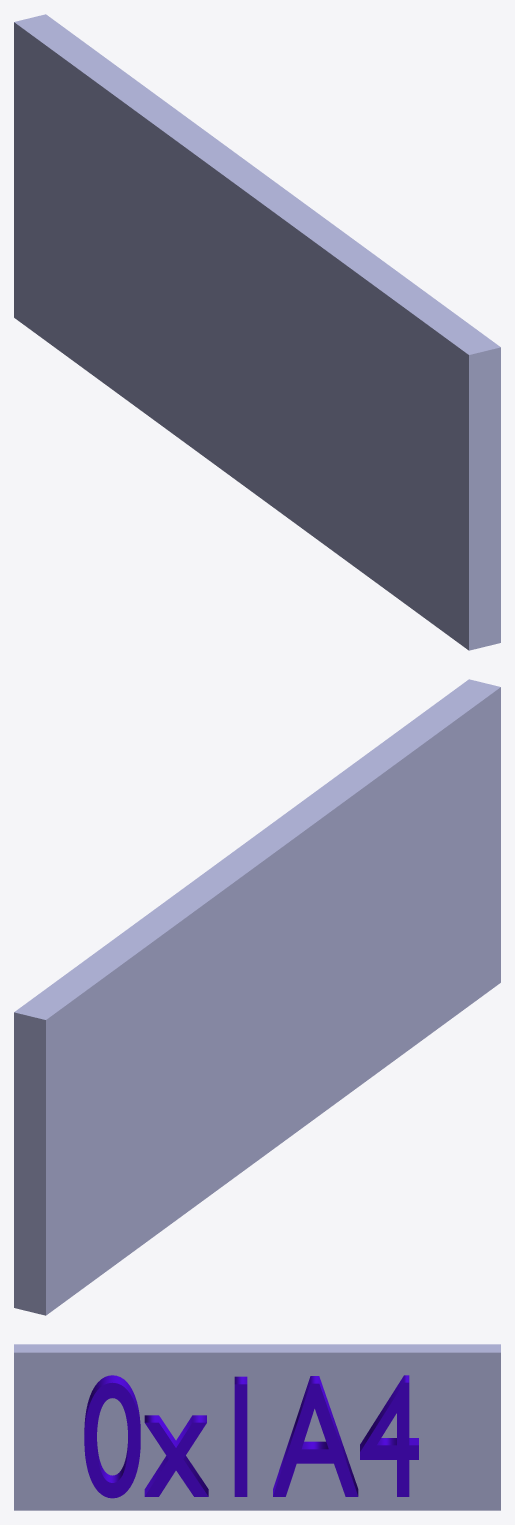
The picture shows the model from 3 angles, top to bottom: view 1: azimuth 30°, elevation 25°; view 2: azimuth 150°, elevation 25°; view 3: azimuth 270°, elevation 25°; orthographic projection. The views are drawn at different scales.
Parts seen in each view (by area): view 1: Cube; view 2: Cube; view 3: Cube, Text.
Boxes of the visible parts, bbox=[...] form: Cube: bbox=[14, 14, 500, 650]; Cube: bbox=[14, 679, 500, 1315]; Cube: bbox=[14, 1344, 500, 1510]; Text: bbox=[84, 1375, 418, 1498].
Bounding box in the file's own units: 2.65 × 12.33 × 34.39.
